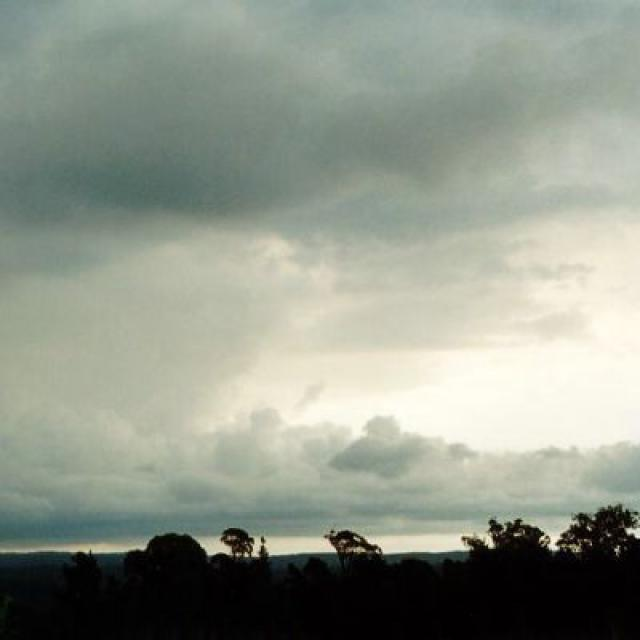Sc: (1, 59, 640, 498)
